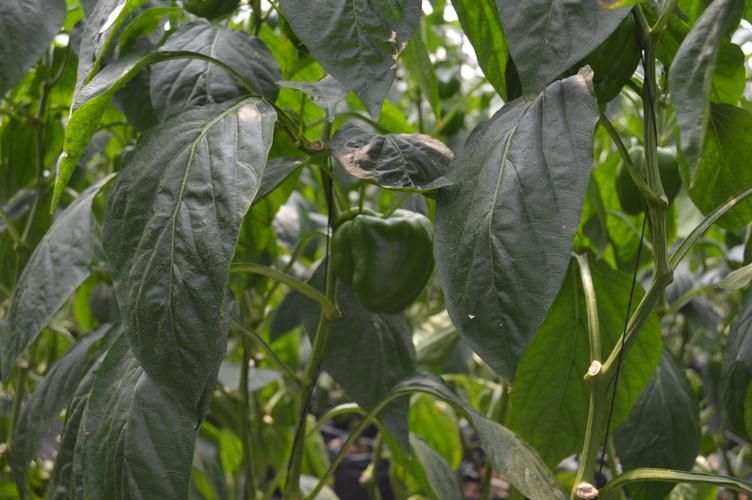BellPepper: (331, 207, 446, 319), (610, 146, 683, 213)
